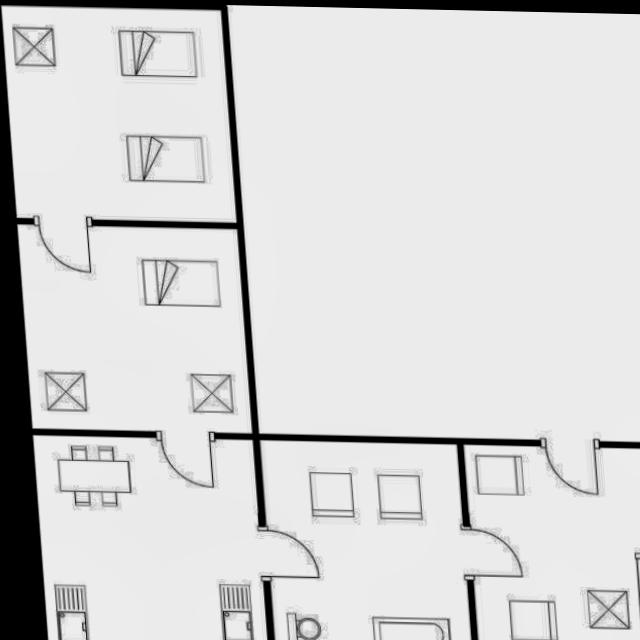room: (0, 5, 240, 222), (15, 224, 257, 434), (33, 436, 268, 640), (259, 426, 472, 640), (463, 444, 640, 640)
